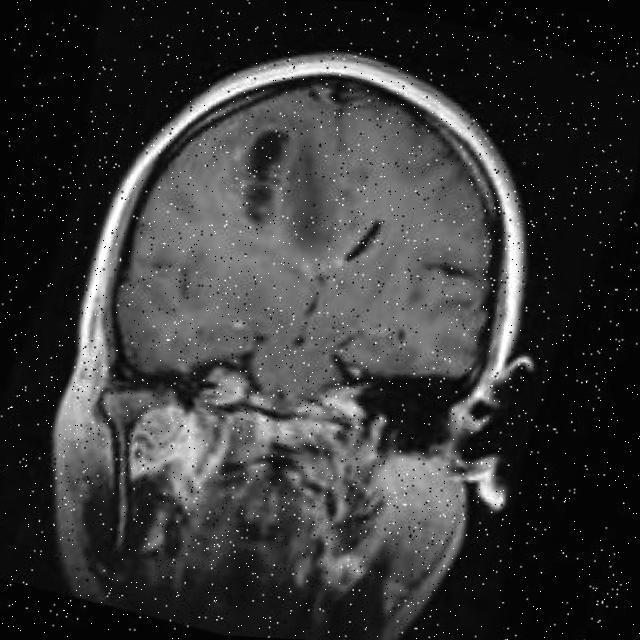MCI: (214, 123, 324, 255)
